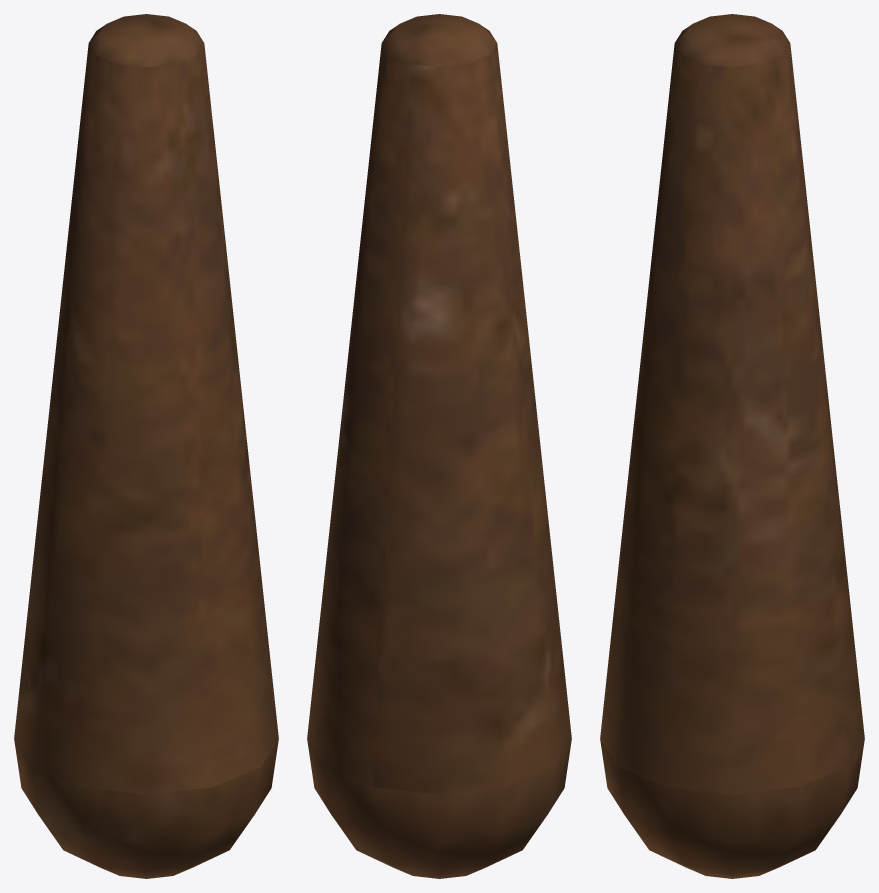
The model's file is pestle01.FBX.
The picture shows the model from 3 angles, left to right: view 1: azimuth 30°, elevation 25°; view 2: azimuth 150°, elevation 25°; view 3: azimuth 270°, elevation 25°; orthographic projection.
Visible parts, largest first — view 1: SM_Pestle01; view 2: SM_Pestle01; view 3: SM_Pestle01.
Part boxes in pixels (box(x1,y1,x2,y2)): SM_Pestle01: box(14, 14, 278, 878); SM_Pestle01: box(307, 14, 571, 878); SM_Pestle01: box(600, 14, 864, 878).
Bounding box in the file's own units: 9.4 × 32.74 × 9.4.
1 material, 1 textured.
